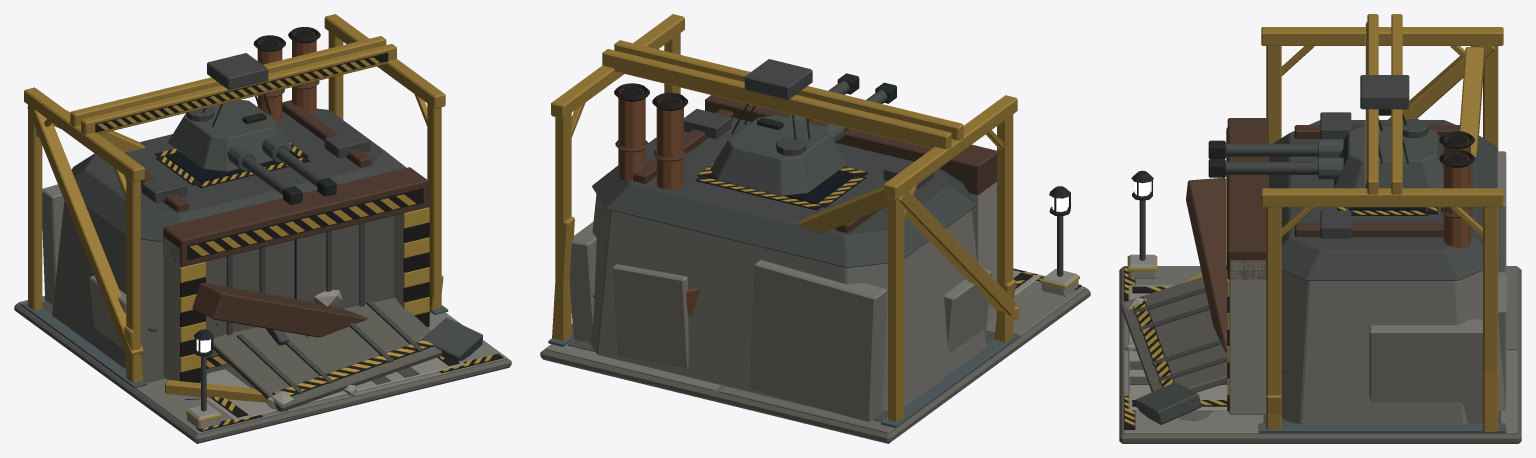
The model's file is t_mammoth.glb.
3 renders of one model, left to right at view 1: azimuth 30°, elevation 25°; view 2: azimuth 150°, elevation 25°; view 3: azimuth 270°, elevation 25°, orthographic. The views are drawn at different scales.
Parts seen in each view (by area): view 1: Intact structure, Ruined structure, Site foundation; view 2: Intact structure, Ruined structure, Site foundation; view 3: Intact structure, Ruined structure, Site foundation.
Boxes of the visible parts, x1,y1,x2,y2 form: Intact structure: [24, 14, 445, 382]; Ruined structure: [27, 104, 482, 412]; Site foundation: [14, 296, 511, 443]; Intact structure: [551, 14, 1017, 421]; Ruined structure: [552, 186, 1019, 421]; Site foundation: [540, 186, 1090, 443]; Intact structure: [1208, 14, 1505, 429]; Ruined structure: [1120, 42, 1506, 432]; Site foundation: [1119, 170, 1521, 443].
Size of the model in its own units: 7.8 by 5.93 by 7.8.
